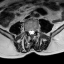CCS_normal: (30, 27, 32, 37)
LFS_normal: (34, 27, 36, 34)
LLS_normal: (32, 27, 34, 36)
RFS_normal: (26, 27, 28, 34)
RLS_normal: (28, 27, 30, 36)
